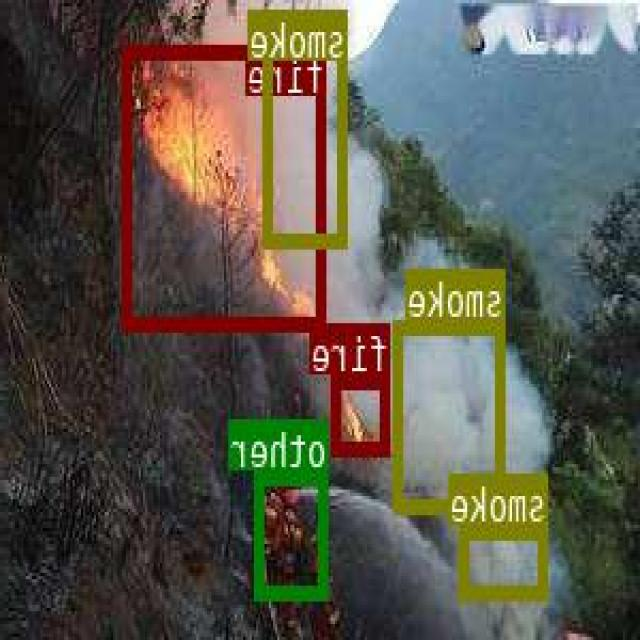fire: (125, 42, 328, 327), (333, 372, 391, 452)
other: (258, 470, 330, 596)
smoke: (395, 318, 507, 510), (266, 7, 349, 246), (461, 523, 548, 598)
